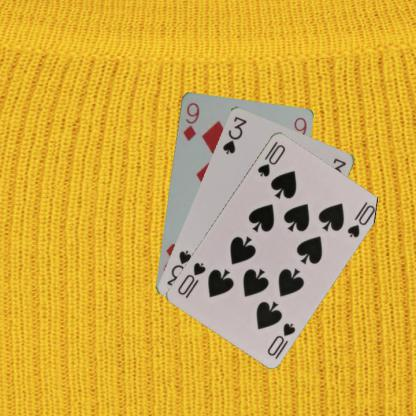10s: (254, 138, 286, 178), (265, 320, 297, 357)
3s: (219, 114, 248, 156)
9d: (180, 100, 200, 142)
